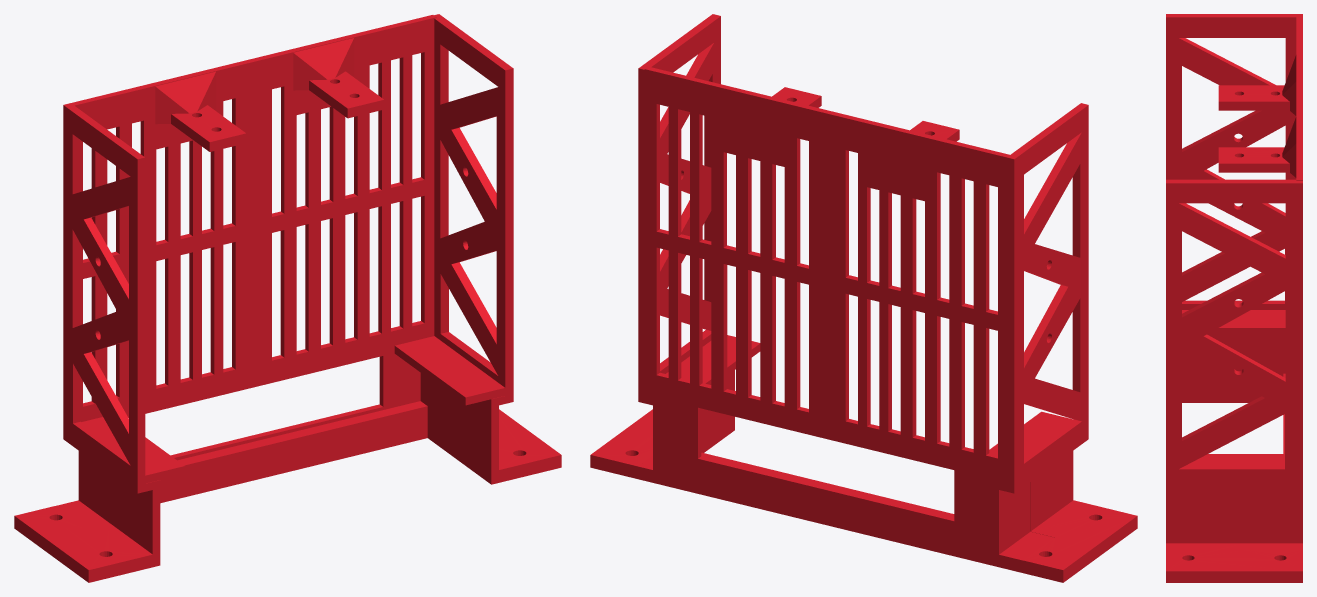
File: tinker.obj
3 views of the same model, side by side, from view 1: azimuth 30°, elevation 25°; view 2: azimuth 150°, elevation 25°; view 3: azimuth 270°, elevation 25° (orthographic). The views are drawn at different scales.
Parts seen in each view (by area): view 1: obj_0; view 2: obj_0; view 3: obj_0.
Boxes of the visible parts, x1,y1,x2,y2 form: obj_0: (14,14,561,582); obj_0: (590,14,1137,582); obj_0: (1166,14,1302,582).
Bounding box in the file's own units: 155 × 129 × 42.2.
